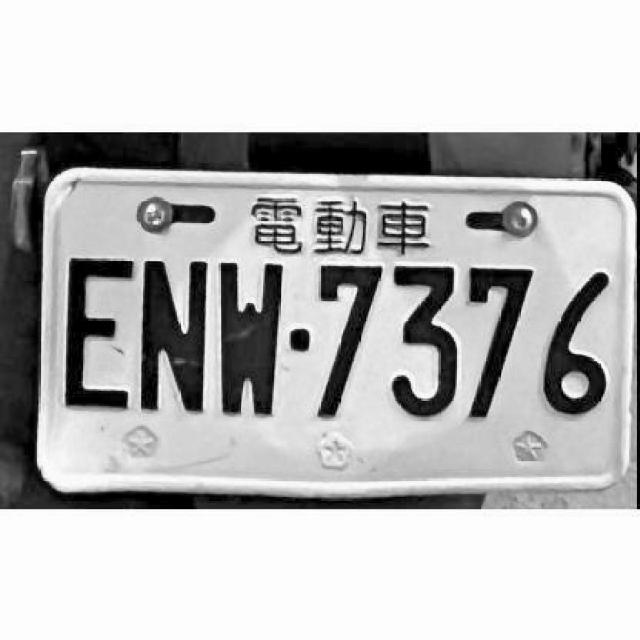-: (292, 323, 311, 348)
3: (389, 264, 462, 422)
6: (537, 263, 612, 422)
7: (465, 260, 537, 422), (315, 263, 383, 415)
E: (60, 251, 132, 415)
N: (134, 252, 211, 416)
W: (215, 257, 288, 420)
